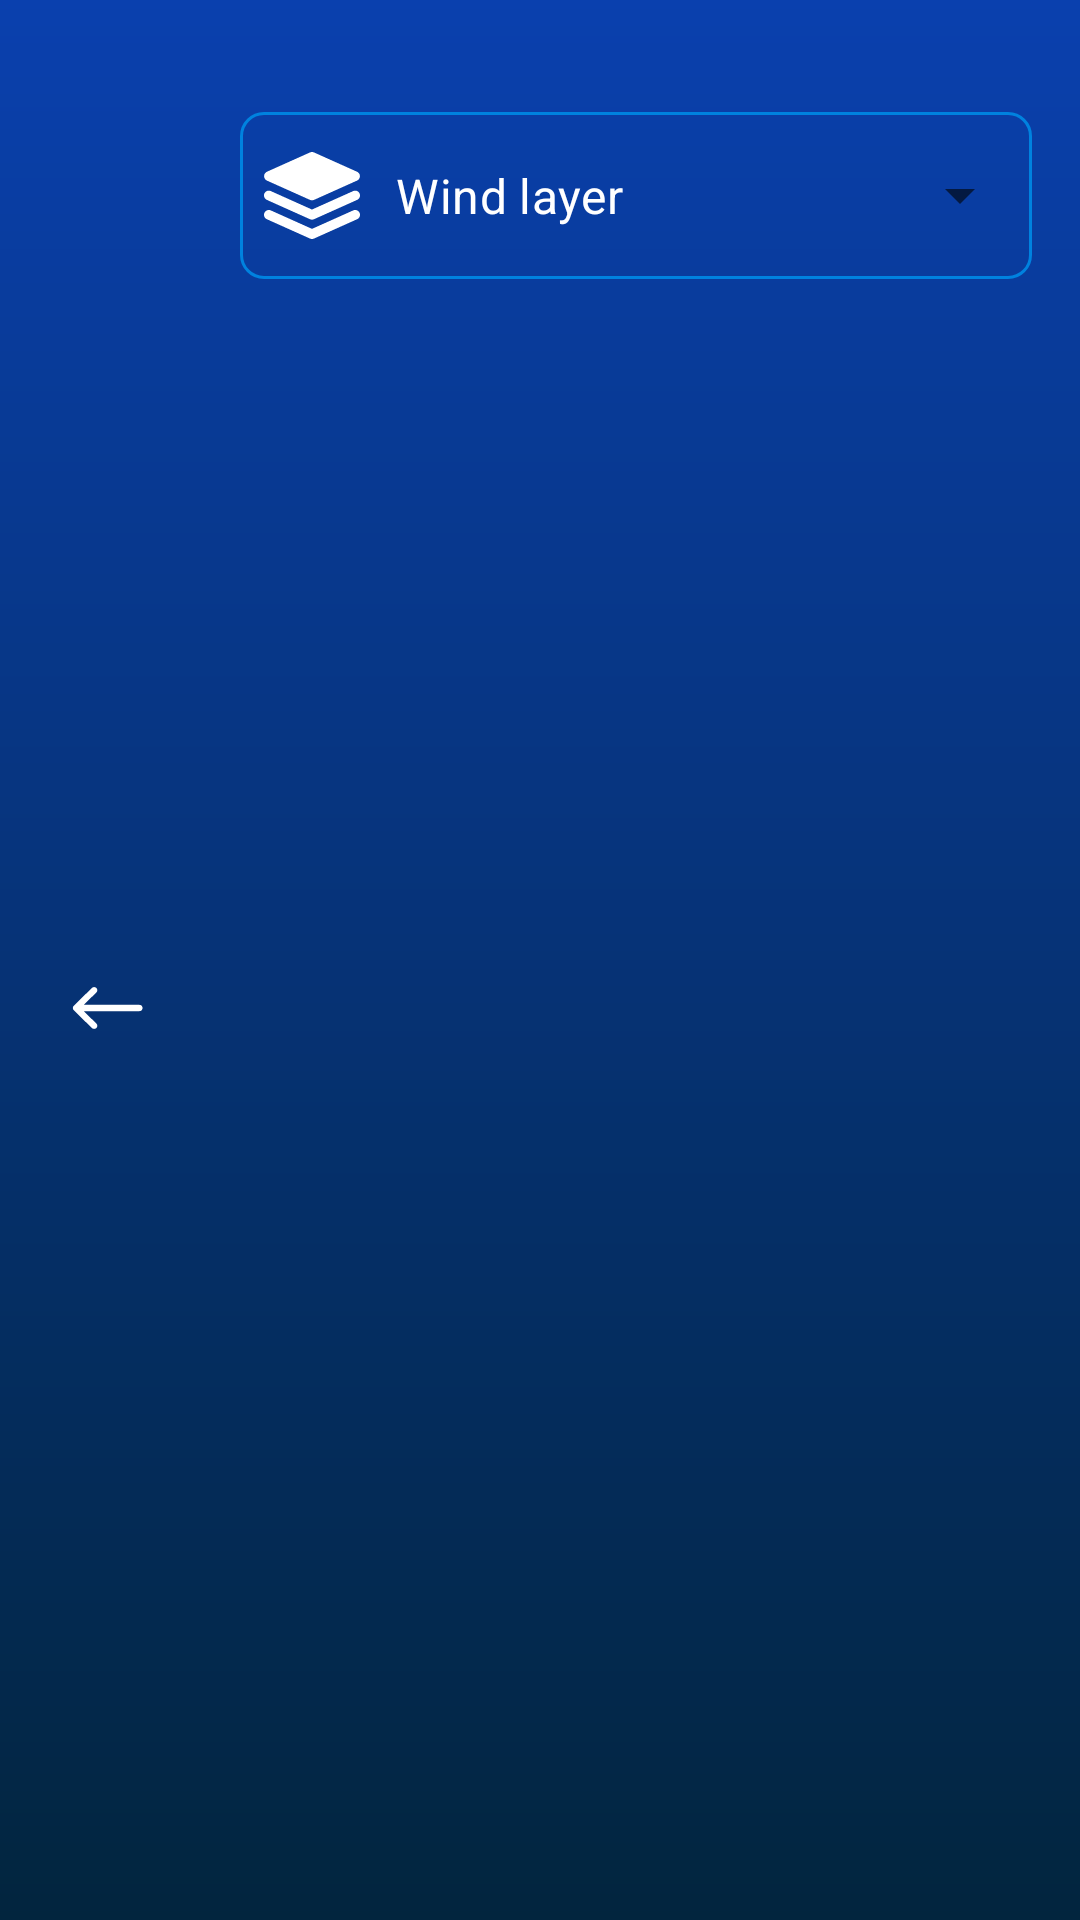

Named icons in this screenshot (1080 × 1920) and their centers, (x=x, y=y):
back: (x=108, y=1008)
